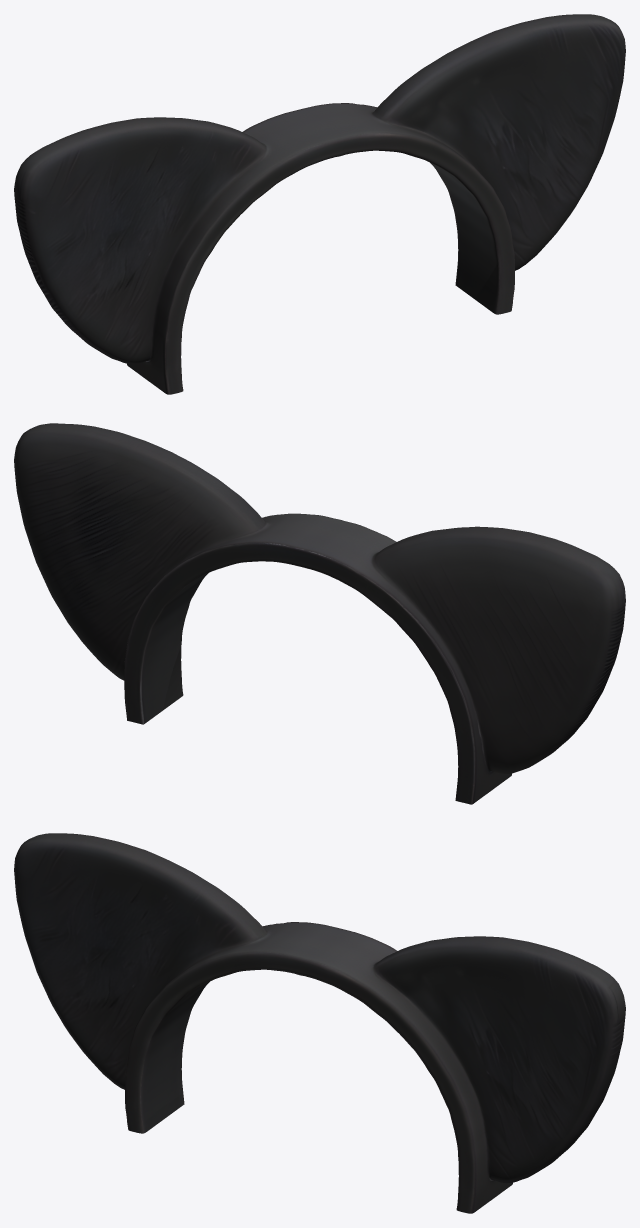
Rendered from CatEars.fbx.
The picture shows the model from 3 angles, top to bottom: view 1: azimuth 30°, elevation 25°; view 2: azimuth 150°, elevation 25°; view 3: azimuth 330°, elevation 25°; orthographic projection.
Parts seen in each view (by area): view 1: model.007; view 2: model.007; view 3: model.007.
Part boxes in pixels (x1,y1,x2,y2): model.007: (14,14,625,394); model.007: (14,423,625,804); model.007: (14,833,625,1213).
Size of the model in its own units: 77.36 by 32.18 by 9.18.
